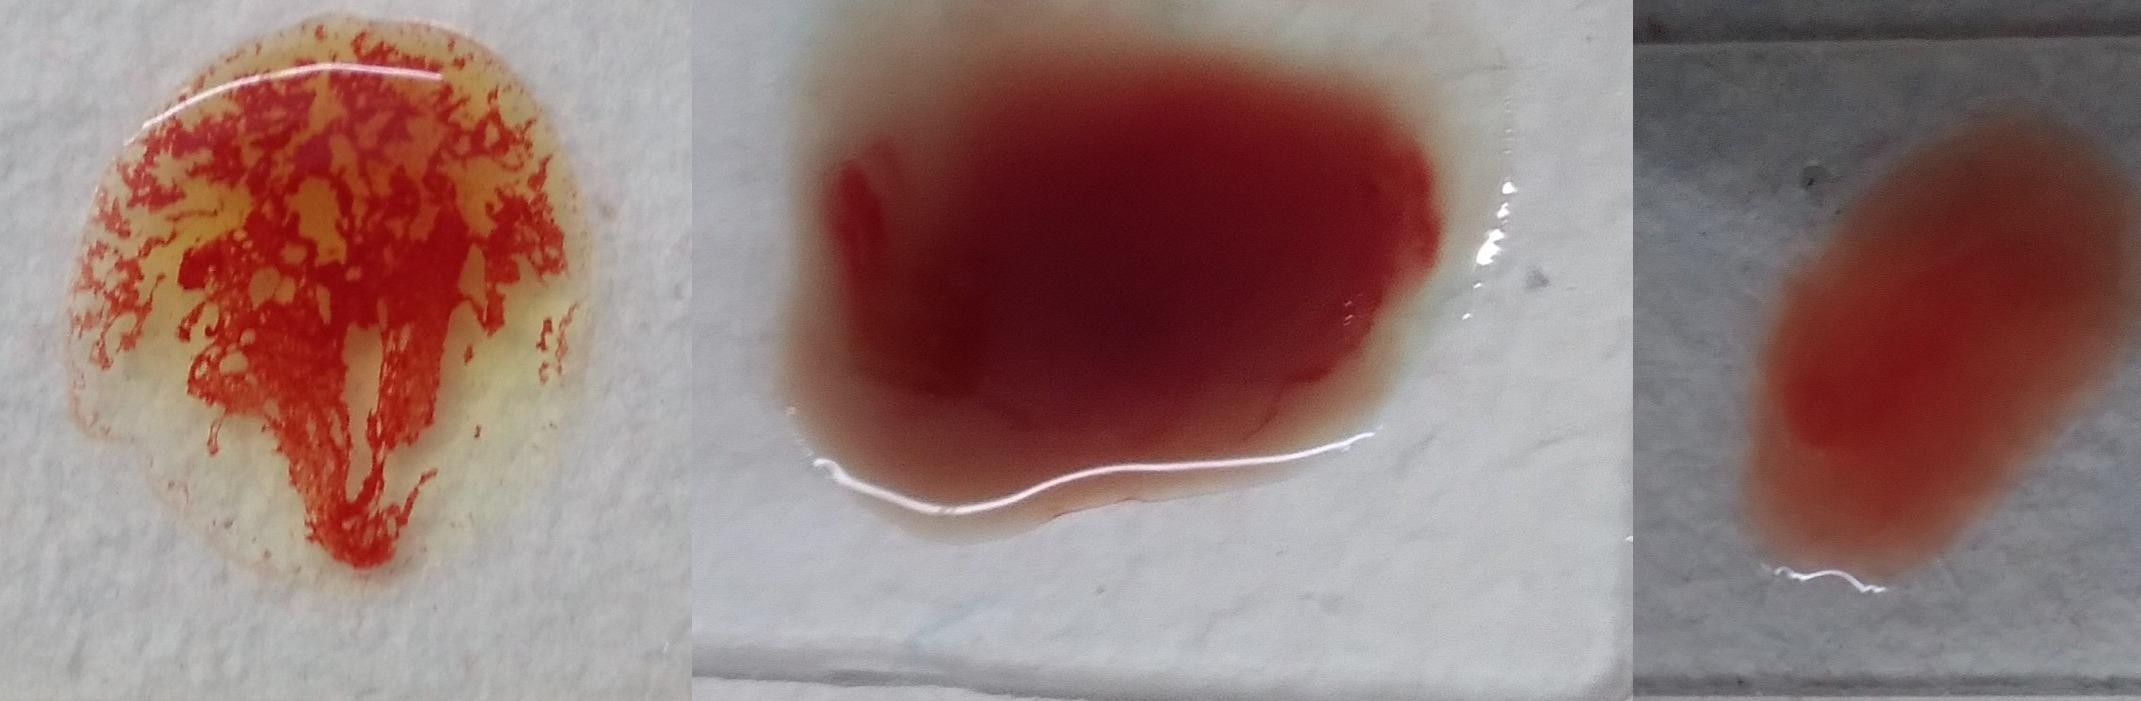B: (42, 14, 610, 603)
